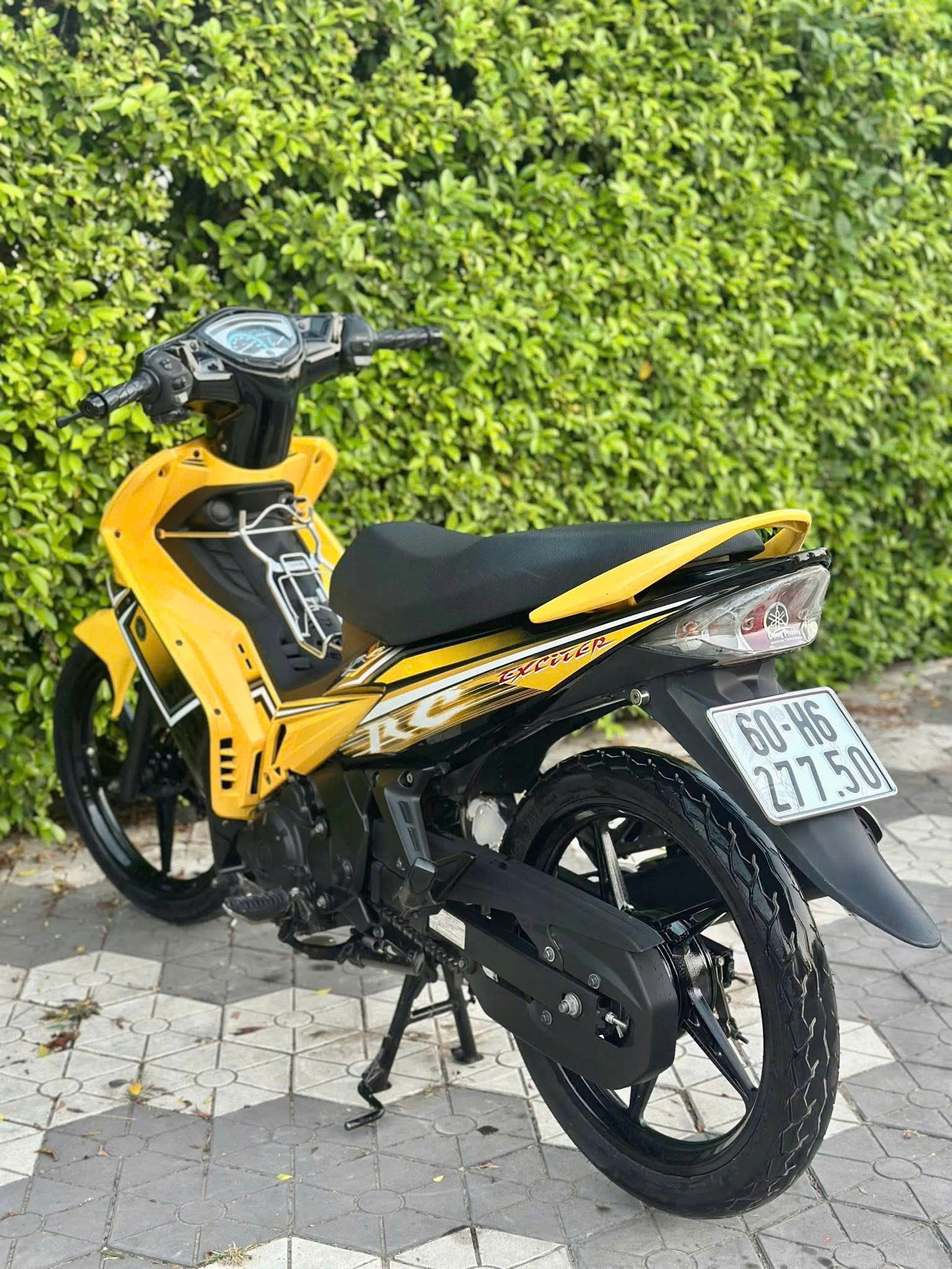Bien-so: (709, 682, 902, 823)
